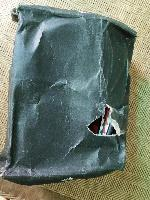damaged package: (83, 98, 123, 144)
undamaged: (1, 3, 139, 186)
